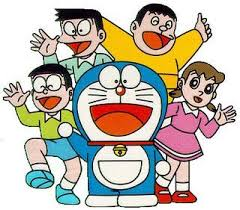doraemon: (56, 60, 172, 208)
